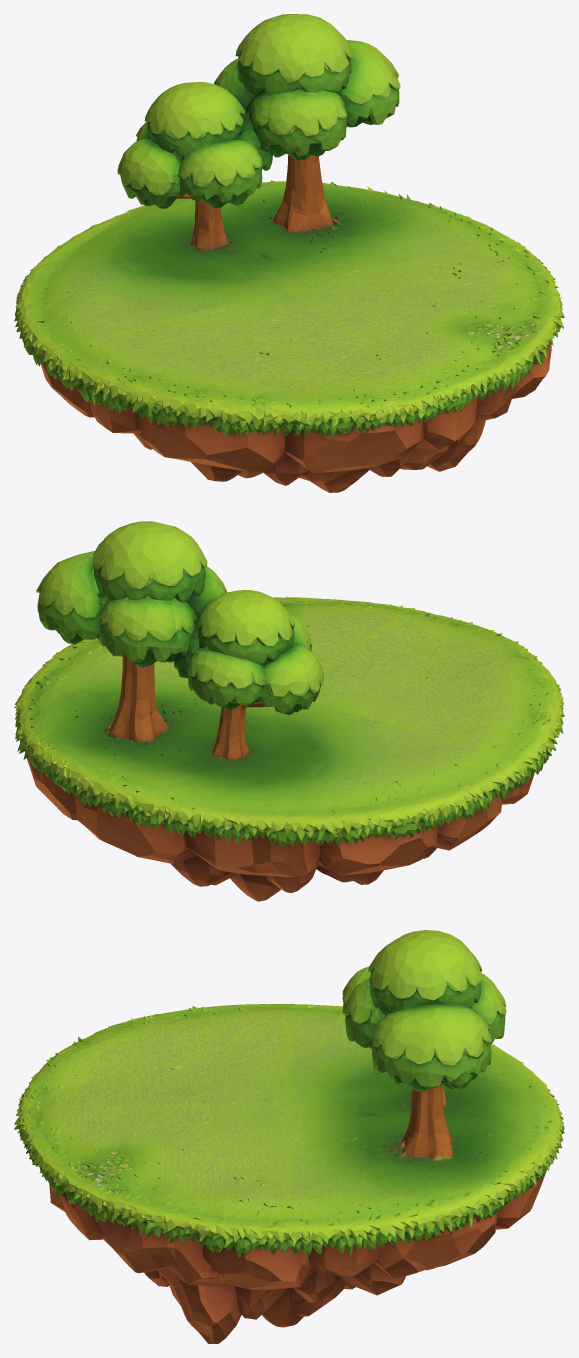
Rendered from TERRAIN_3_spring.glb.
The picture shows the model from 3 angles, top to bottom: view 1: azimuth 30°, elevation 25°; view 2: azimuth 150°, elevation 25°; view 3: azimuth 270°, elevation 25°; orthographic projection.
Parts seen in each view (by area): view 1: tripo_node_60f6cb4b-6aa9-4092-9cfd-fdfe212941b7; view 2: tripo_node_60f6cb4b-6aa9-4092-9cfd-fdfe212941b7; view 3: tripo_node_60f6cb4b-6aa9-4092-9cfd-fdfe212941b7.
Part boxes in pixels (x1=…): tripo_node_60f6cb4b-6aa9-4092-9cfd-fdfe212941b7: x1=14, y1=14, x2=564, y2=492; tripo_node_60f6cb4b-6aa9-4092-9cfd-fdfe212941b7: x1=14, y1=521, x2=564, y2=901; tripo_node_60f6cb4b-6aa9-4092-9cfd-fdfe212941b7: x1=14, y1=930, x2=564, y2=1343.
Size of the model in its own units: 9 by 7 by 9.
Materials: 1 (1 with a texture image).
